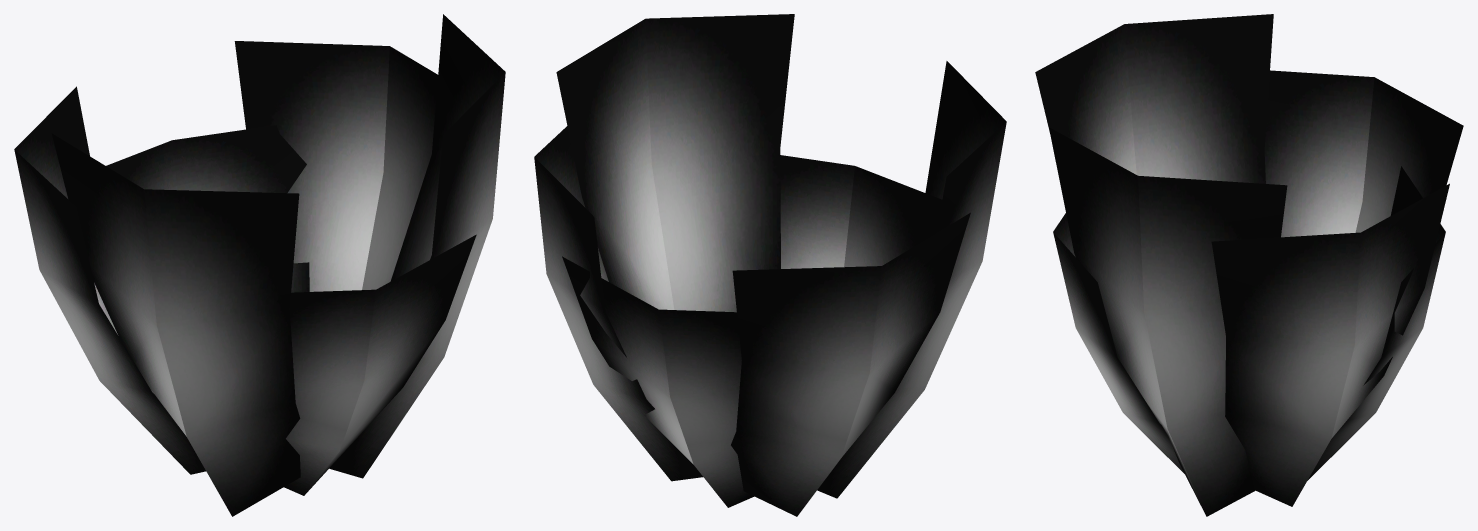
Rendered from vfx_kurp_0463.dae.
3 renders of one model, left to right at view 1: azimuth 30°, elevation 25°; view 2: azimuth 150°, elevation 25°; view 3: azimuth 270°, elevation 25°, orthographic. The views are drawn at different scales.
Parts seen in each view (by area): view 1: vfx_kurp_0463; view 2: vfx_kurp_0463; view 3: vfx_kurp_0463.
Boxes of the visible parts, x1,y1,x2,y2 form: vfx_kurp_0463: (14, 14, 505, 516); vfx_kurp_0463: (534, 14, 1006, 516); vfx_kurp_0463: (1035, 14, 1463, 516).
Size of the model in its own units: 6.48 by 6.27 by 6.44.
Materials: 1 (1 with a texture image).
